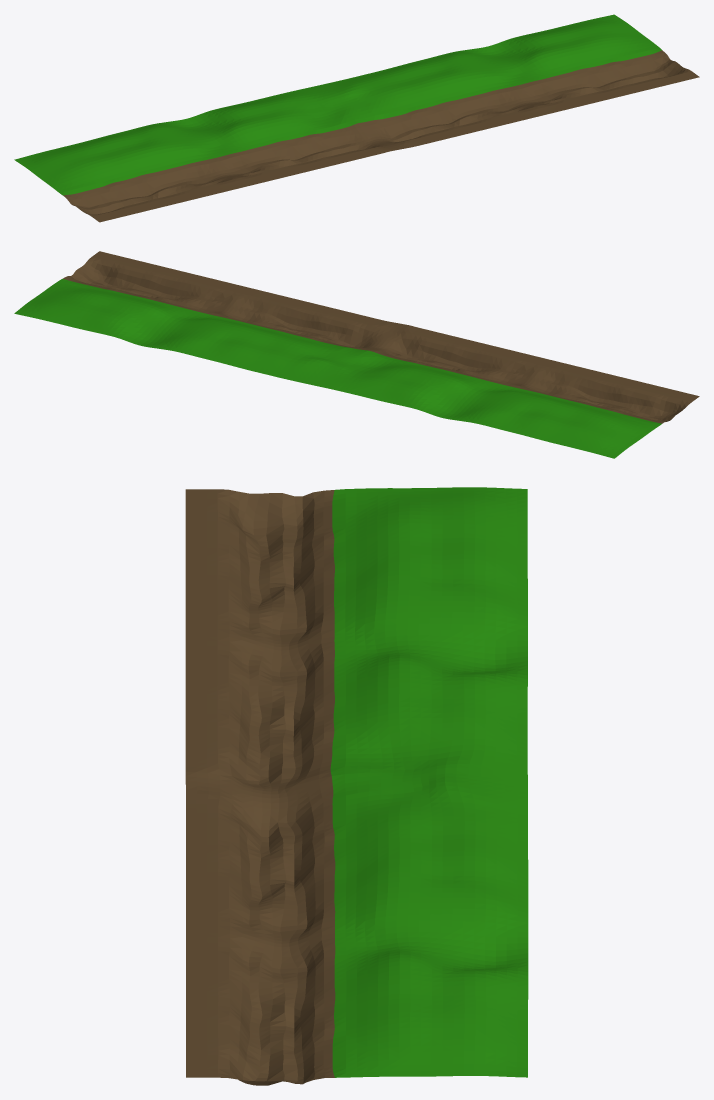
Rendered from Riverbank2.fbx.
3 renders of one model, top to bottom at view 1: azimuth 30°, elevation 25°; view 2: azimuth 150°, elevation 25°; view 3: azimuth 270°, elevation 25°, orthographic. The views are drawn at different scales.
Parts seen in each view (by area): view 1: Plane; view 2: Plane; view 3: Plane.
Part boxes in pixels (x1,y1,x2,y2): Plane: [14, 14, 699, 222]; Plane: [14, 251, 699, 458]; Plane: [185, 487, 528, 1085].
Size of the model in its own units: 8109 by 314 by 2005.
